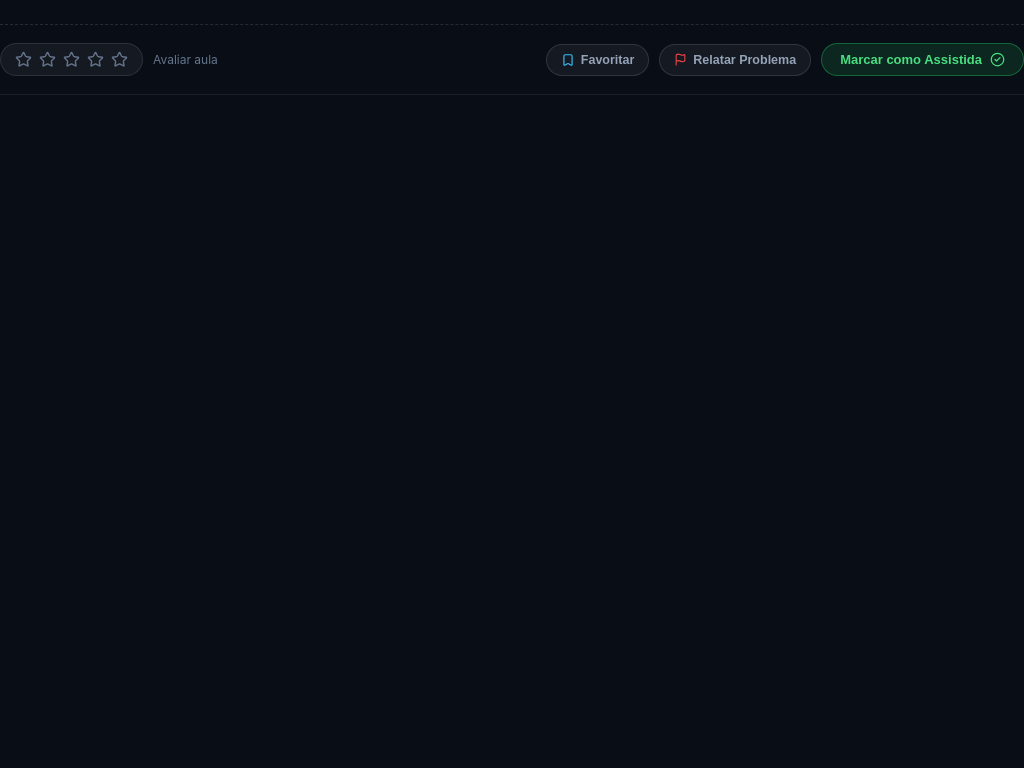
Test: LessonActionToolbar Component › opens report modal, fills issue type and description, and submits report
The image size is (1024, 768).
# Abre o modal
Click the button with test id "open-report-issue-btn" at [735, 60], box 659,44 -> 811,76
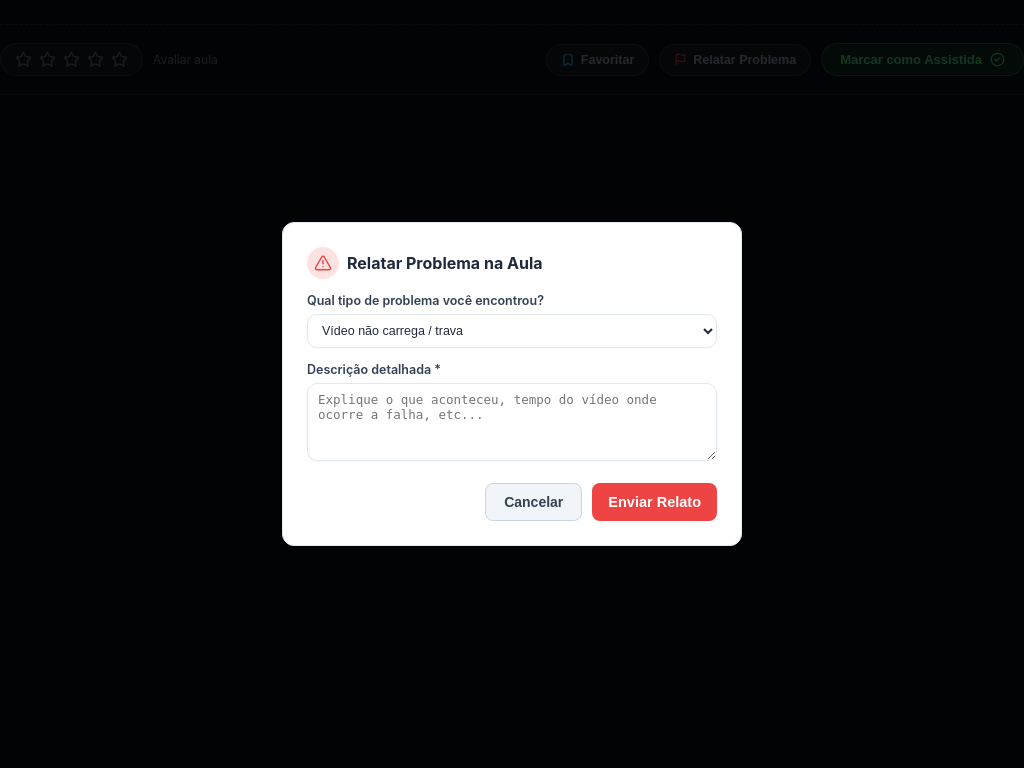
expect the heading "Relatar Problema na Aula" is shown: met, box 347,253 -> 542,273
# Seleciona tipo de problema
Select "Áudio baixo / com ruído" in the dropdown with test id "report-issue-type-select" at [512, 331], box 307,314 -> 717,348
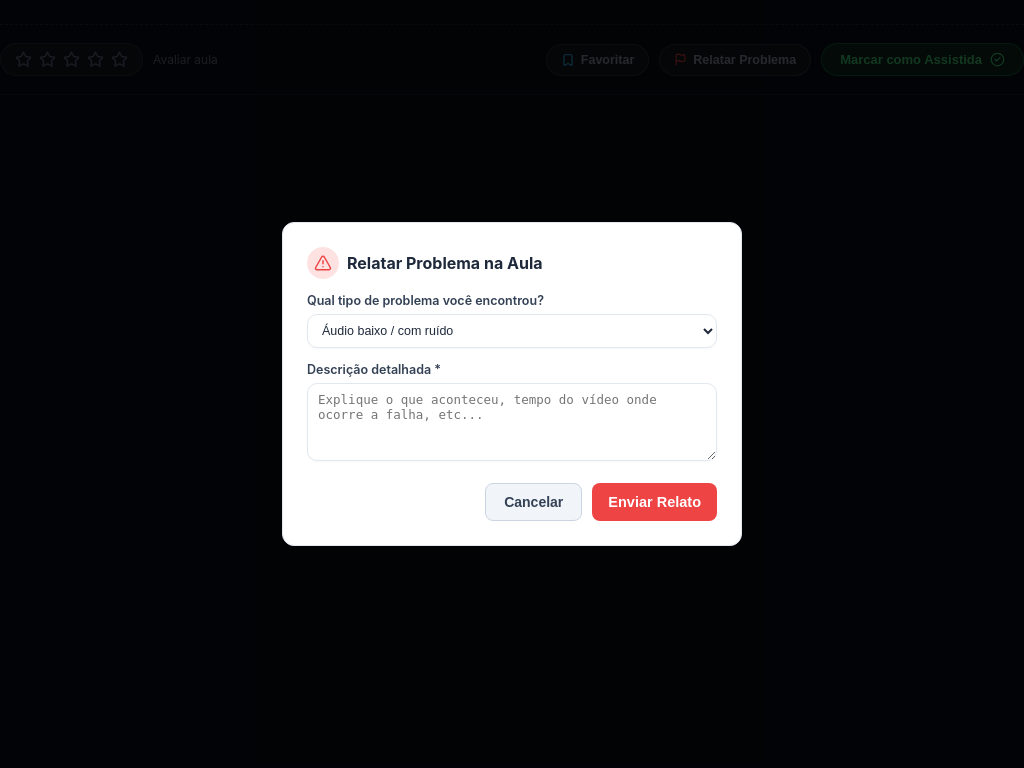
# Preenche descrição
Replace the text in the text box with test id "report-description-input" with "Áudio está cortando no minuto 3" at [512, 422], box 307,383 -> 717,461
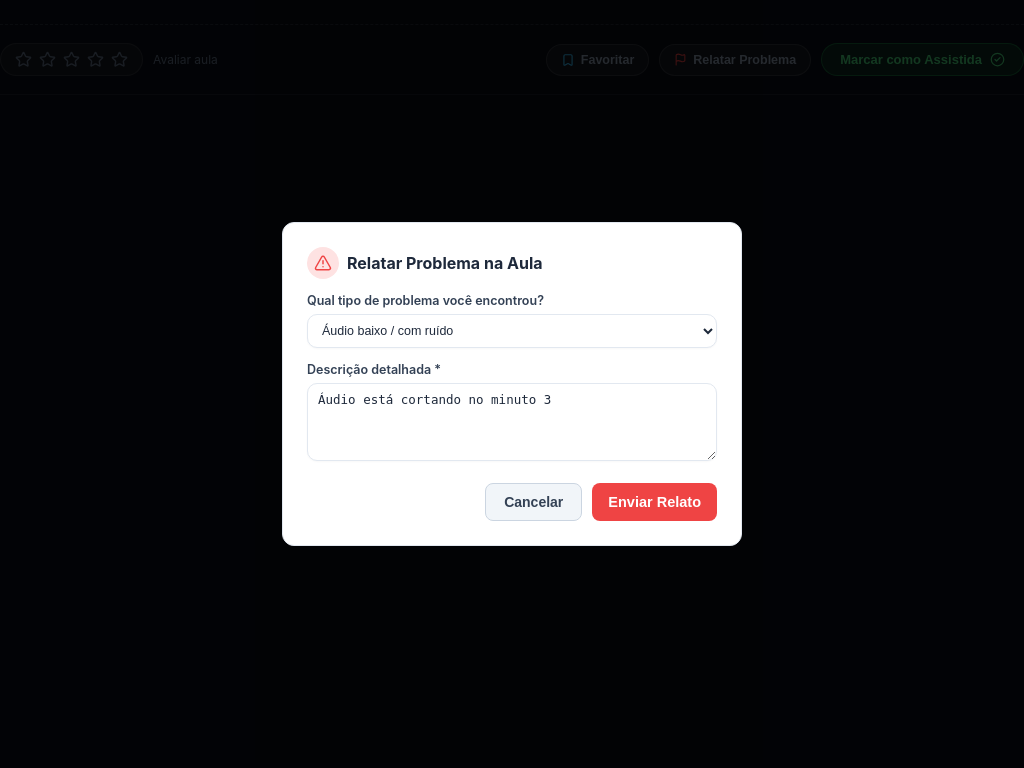
# Envia o relato
Click the button with test id "submit-report-btn" at [655, 502], box 592,483 -> 717,521
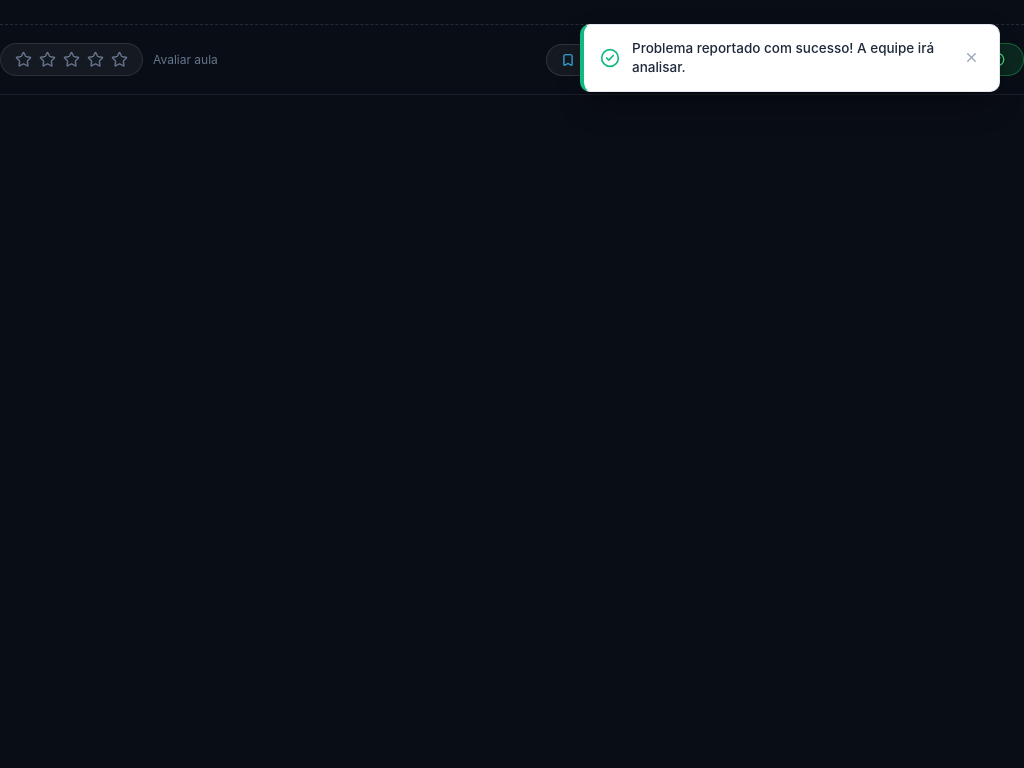
expect the heading "Relatar Problema na Aula" is gone: met
